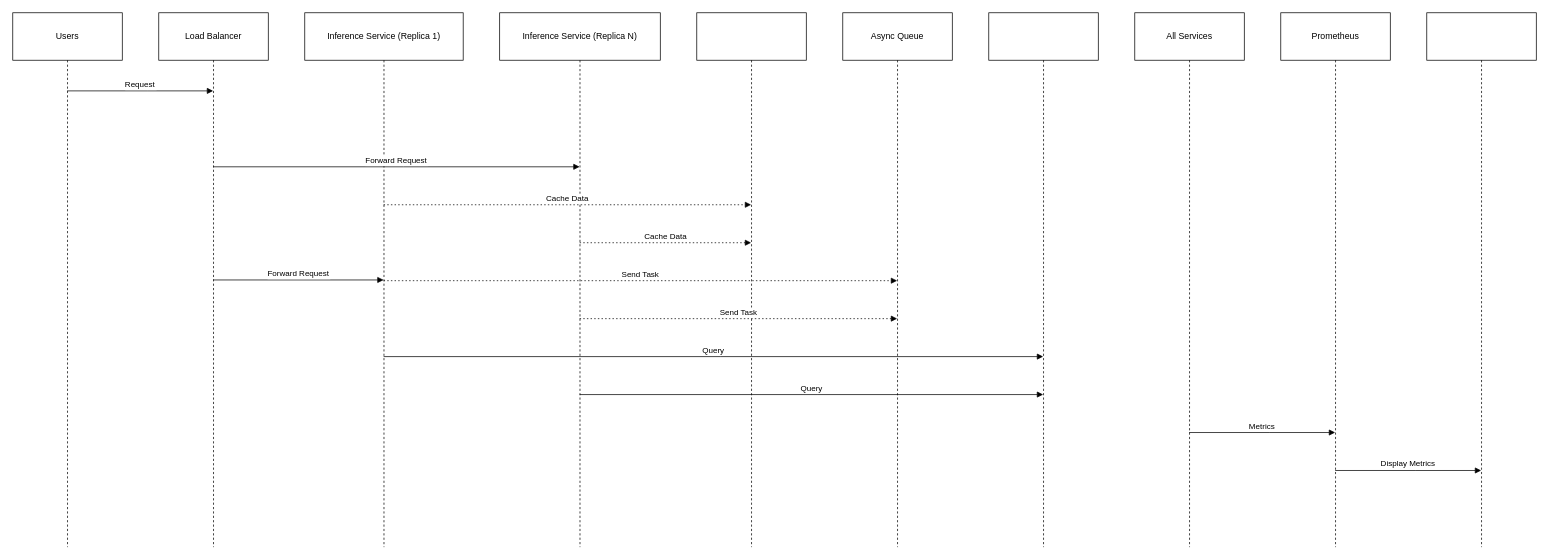
Image size: 1549x560. Some labels were removed from this diagram. Here are the shapes that lost their labels. From the top down, the box of each, then its label:
(696, 12, 806, 547): Redis Cache
(988, 12, 1098, 547): Database
(1426, 12, 1536, 547): Grafana
